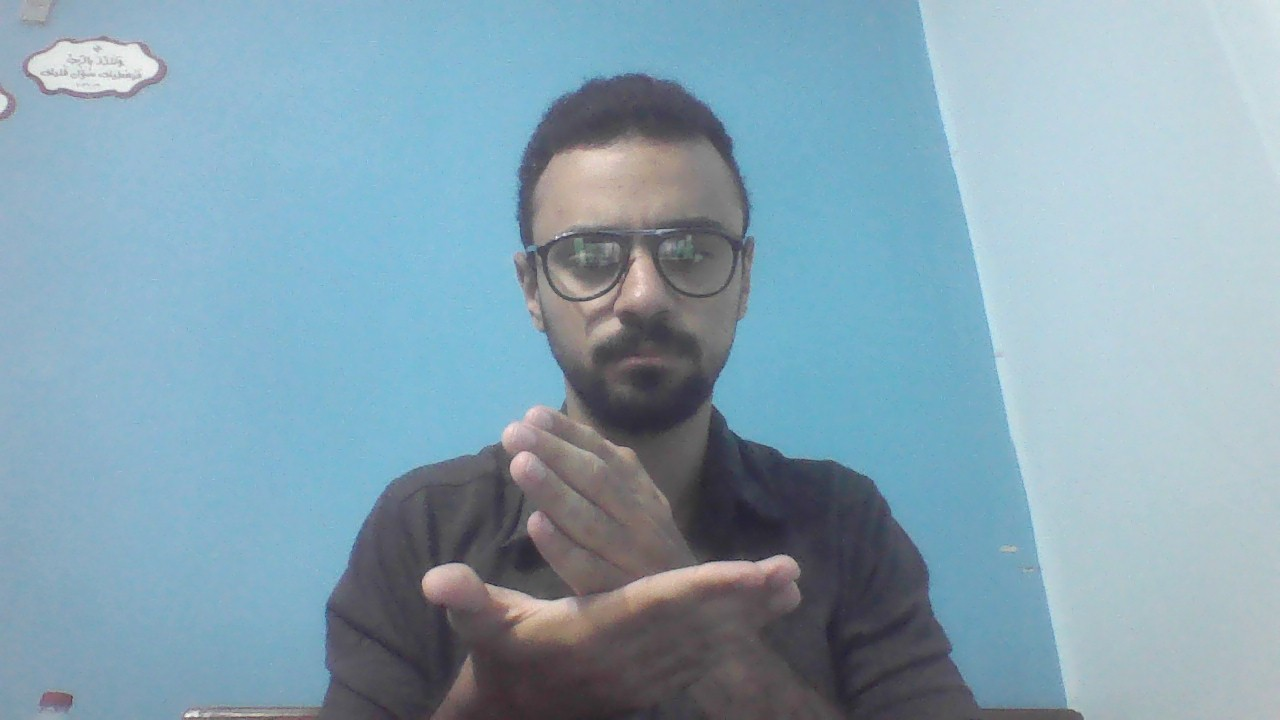stop: (422, 395, 804, 702)
